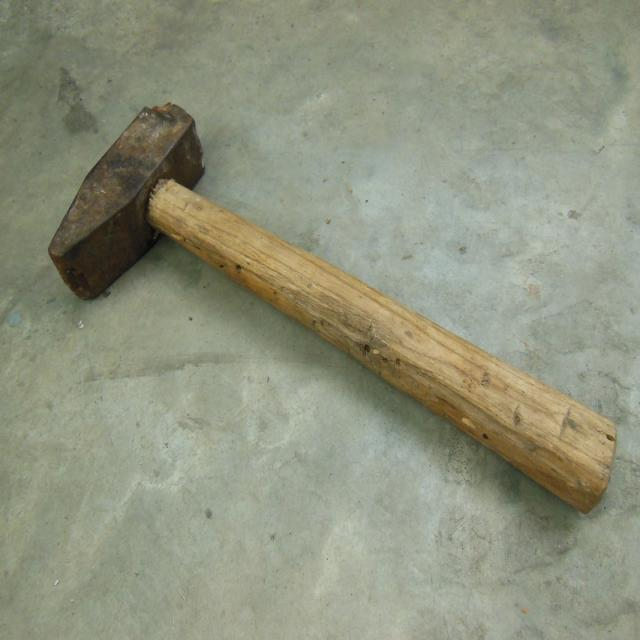hammer: (43, 99, 622, 526)
